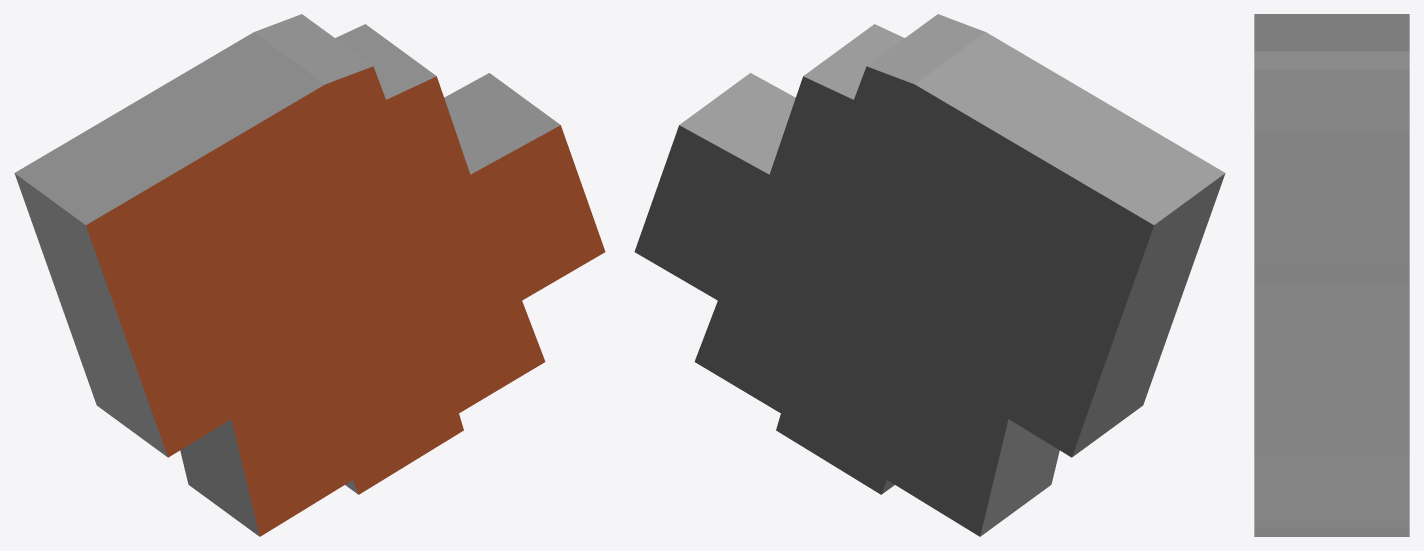
File: construction_4911_assumed_A_Casa_h6m.obj
The picture shows the model from 3 angles, left to right: view 1: azimuth 30°, elevation 25°; view 2: azimuth 150°, elevation 25°; view 3: azimuth 270°, elevation 25°; orthographic projection. The views are drawn at different scales.
Visible parts, largest first — view 1: construction_4911_assumed_A_Casa; view 2: construction_4911_assumed_A_Casa; view 3: construction_4911_assumed_A_Casa.
Boxes of the visible parts, x1,y1,x2,y2 form: construction_4911_assumed_A_Casa: [14, 14, 605, 536]; construction_4911_assumed_A_Casa: [634, 14, 1225, 536]; construction_4911_assumed_A_Casa: [1254, 14, 1409, 536].
Size of the model in its own units: 25.21 by 20.53 by 6.
